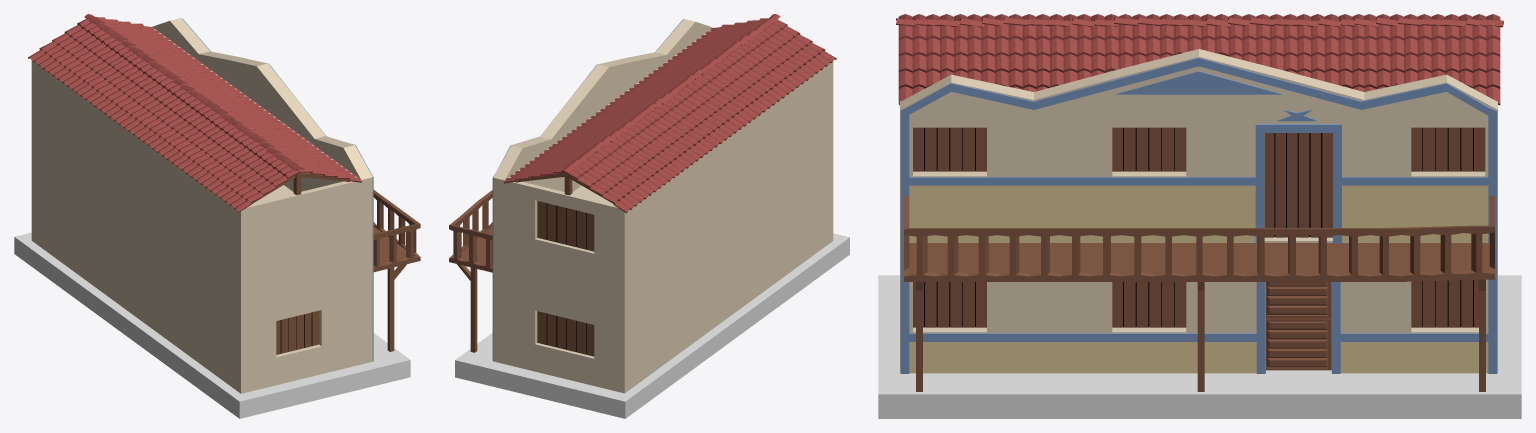
Rendered from casa8.fbx.
The picture shows the model from 3 angles, left to right: view 1: azimuth 30°, elevation 25°; view 2: azimuth 150°, elevation 25°; view 3: azimuth 270°, elevation 25°; orthographic projection. The views are drawn at different scales.
Parts seen in each view (by area): view 1: Cube.043, Cube.013; view 2: Cube.043, Cube.013; view 3: Cube.043, Cube.013.
Part boxes in pixels (x1=…): Cube.043: x1=28, y1=14, x2=420, y2=393; Cube.013: x1=14, y1=232, x2=410, y2=418; Cube.043: x1=449, y1=14, x2=836, y2=393; Cube.013: x1=455, y1=233, x2=849, y2=418; Cube.043: x1=896, y1=14, x2=1503, y2=391; Cube.013: x1=878, y1=275, x2=1521, y2=418.
Size of the model in its own units: 279 by 335 by 573.
